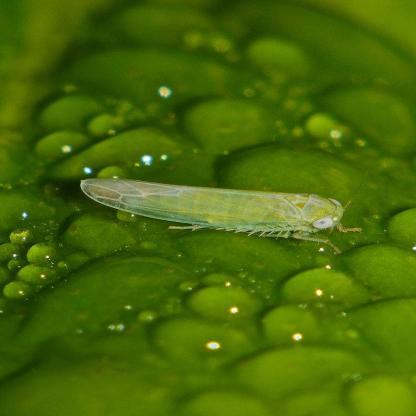green-leafhopper: (80, 174, 344, 244)
